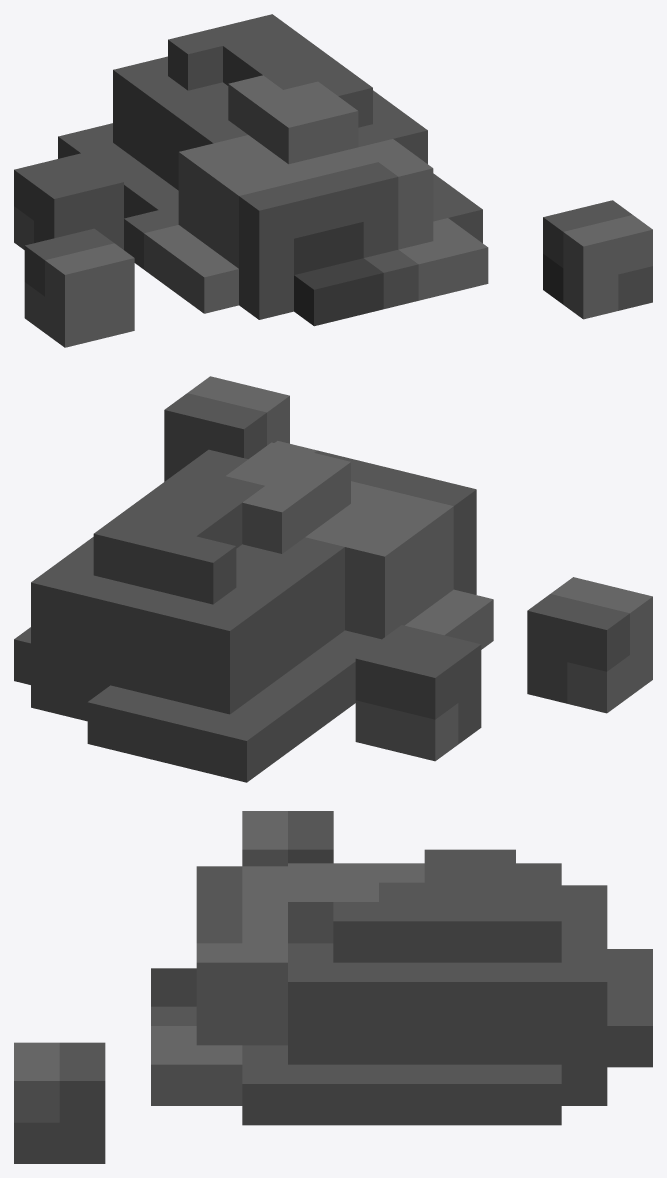
File: Steen2.fbx
3 views of the same model, one above another, from view 1: azimuth 30°, elevation 25°; view 2: azimuth 150°, elevation 25°; view 3: azimuth 270°, elevation 25° (orthographic). The views are drawn at different scales.
Visible parts, largest first — view 1: Steen2:Steen2; view 2: Steen2:Steen2; view 3: Steen2:Steen2.
Boxes of the visible parts, left/top/right/bottom form: Steen2:Steen2: left=14, top=14, right=652, bottom=347; Steen2:Steen2: left=14, top=376, right=652, bottom=782; Steen2:Steen2: left=14, top=811, right=652, bottom=1163.
Size of the model in its own units: 14 by 4 by 14.
1 material, 1 textured.
